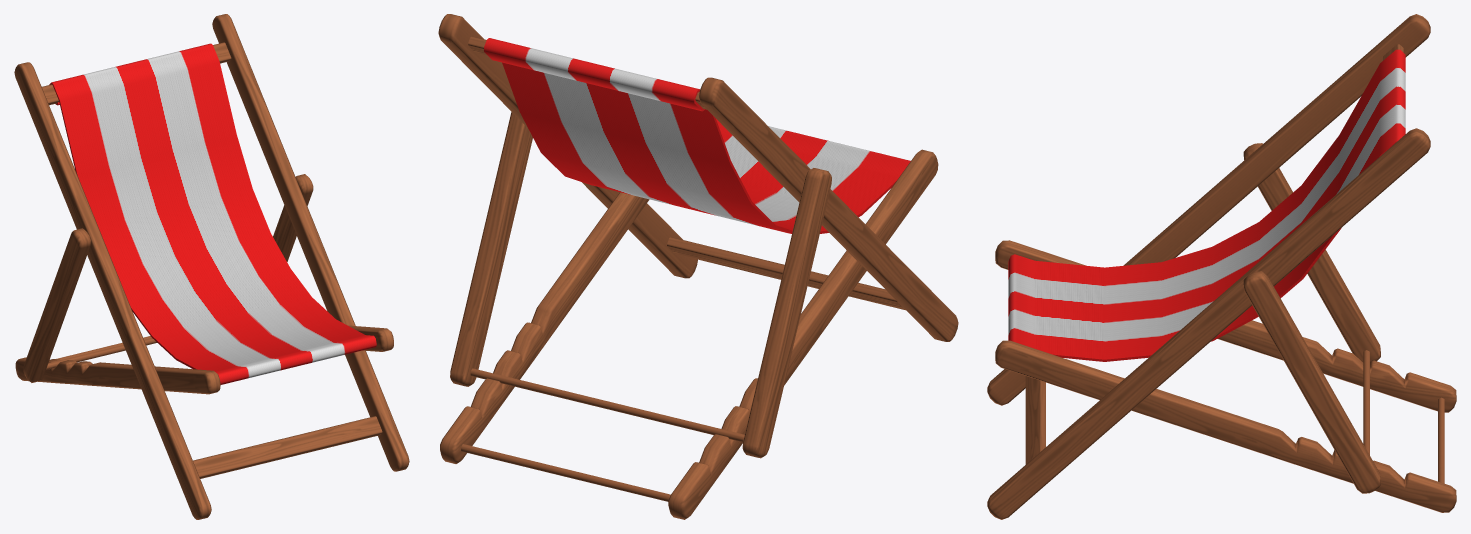
The model's file is beach_assets_chair.fbx.
3 renders of one model, left to right at view 1: azimuth 30°, elevation 25°; view 2: azimuth 150°, elevation 25°; view 3: azimuth 270°, elevation 25°, orthographic. The views are drawn at different scales.
Visible parts, largest first — view 1: beach_assets_chair; view 2: beach_assets_chair; view 3: beach_assets_chair.
Boxes of the visible parts, x1=… form: beach_assets_chair: x1=14, y1=14, x2=409, y2=519; beach_assets_chair: x1=438, y1=14, x2=958, y2=519; beach_assets_chair: x1=987, y1=14, x2=1456, y2=519.
Bounding box in the file's own units: 65.23 × 87 × 95.59.
1 material, 1 textured.
